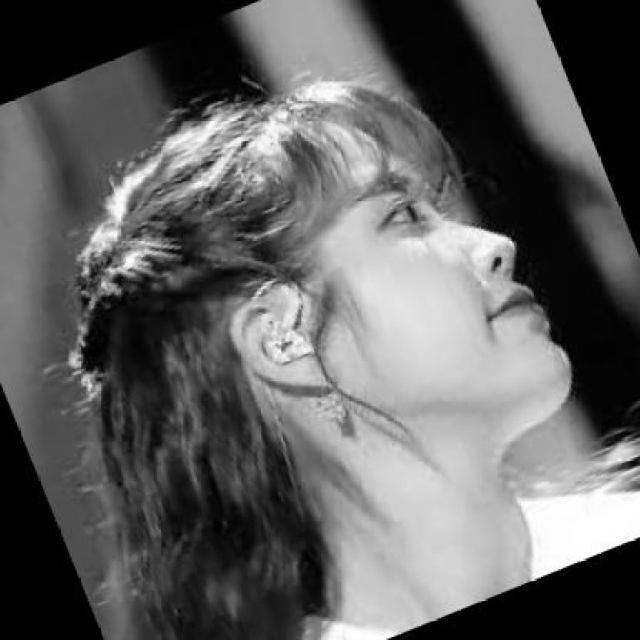earphone: (257, 314, 317, 376)
